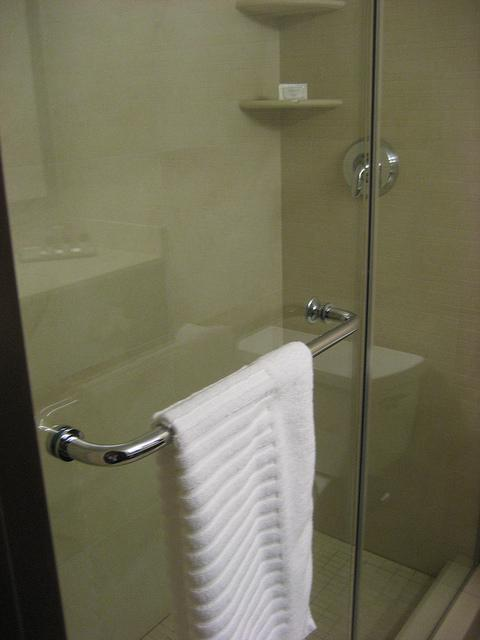Ducha: (0, 13, 473, 639)
